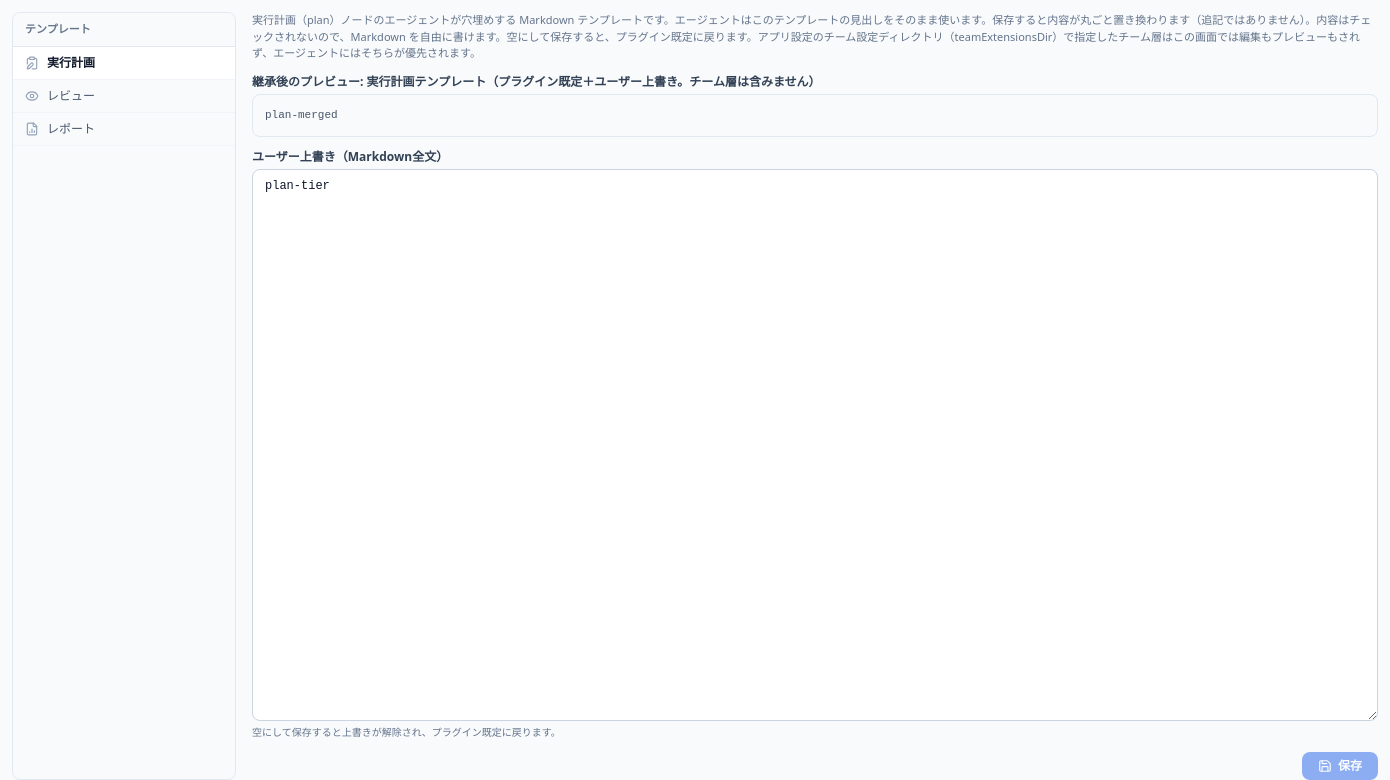
Test case: TemplatesEditor › clears a review override by saving it empty
Click the button "レビュー": {"x": 124, "y": 96} [13,80,235,112]
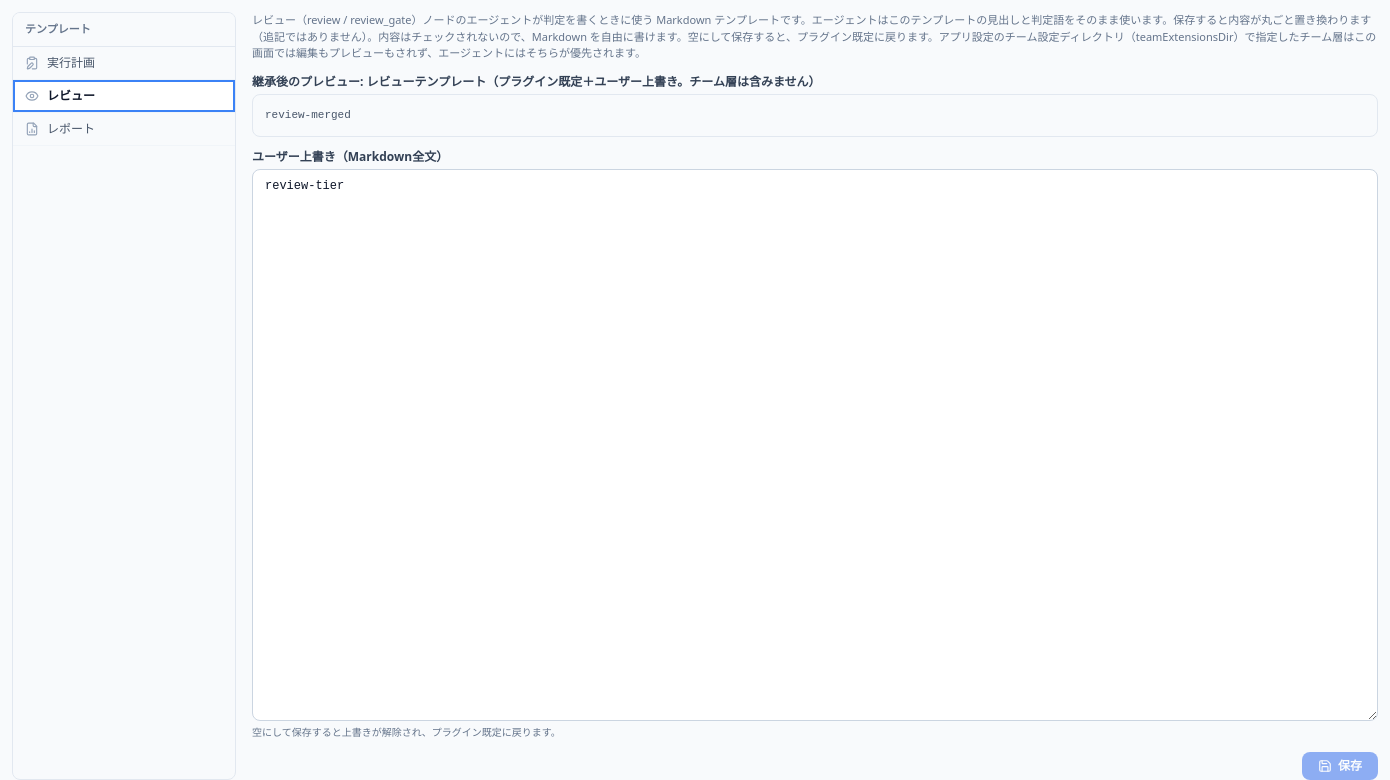
Clear the text box labelled "ユーザー上書き（Markdown全文）": {"x": 815, "y": 445} [252,169,1378,721]
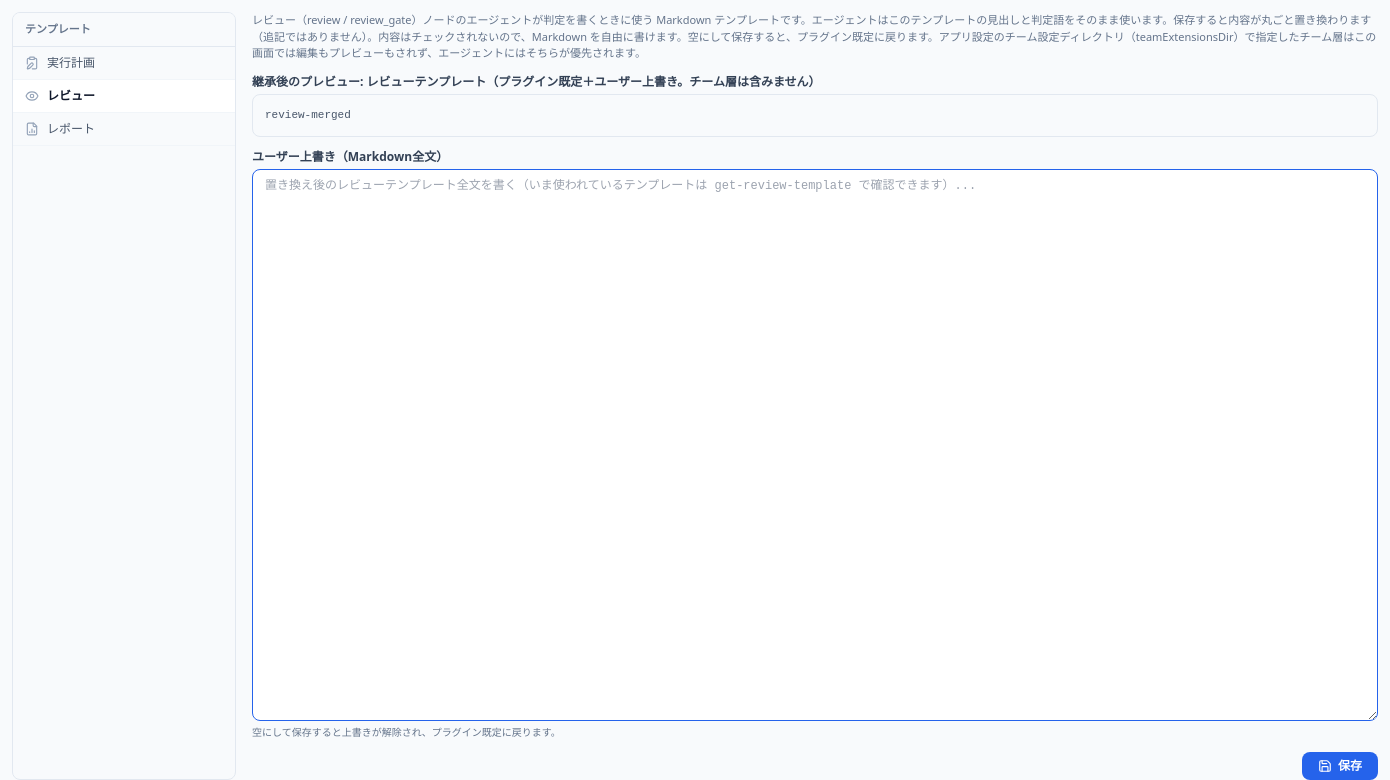
Click the button "保存": {"x": 1340, "y": 766} [1302,752,1378,779]
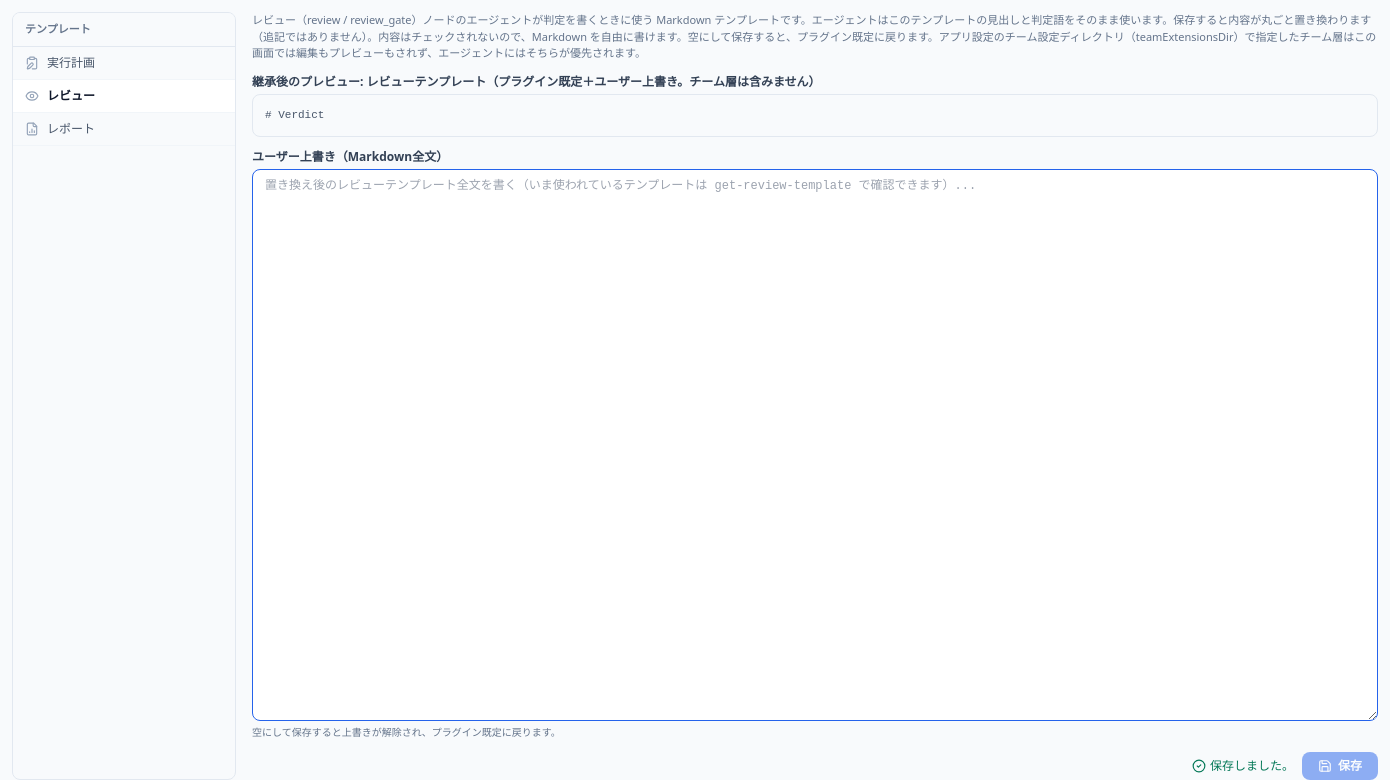
Expected: the text "空にして保存すると上書きが解除され、プラグイン既定に戻ります。" is shown, [252,725,561,739]
Now the text named "継承後のプレビュー: レビューテンプレート（プラグイン既定＋ユーザー上書き。チーム層は含みません）" reads "# Verdict", box [265,108,324,120]
